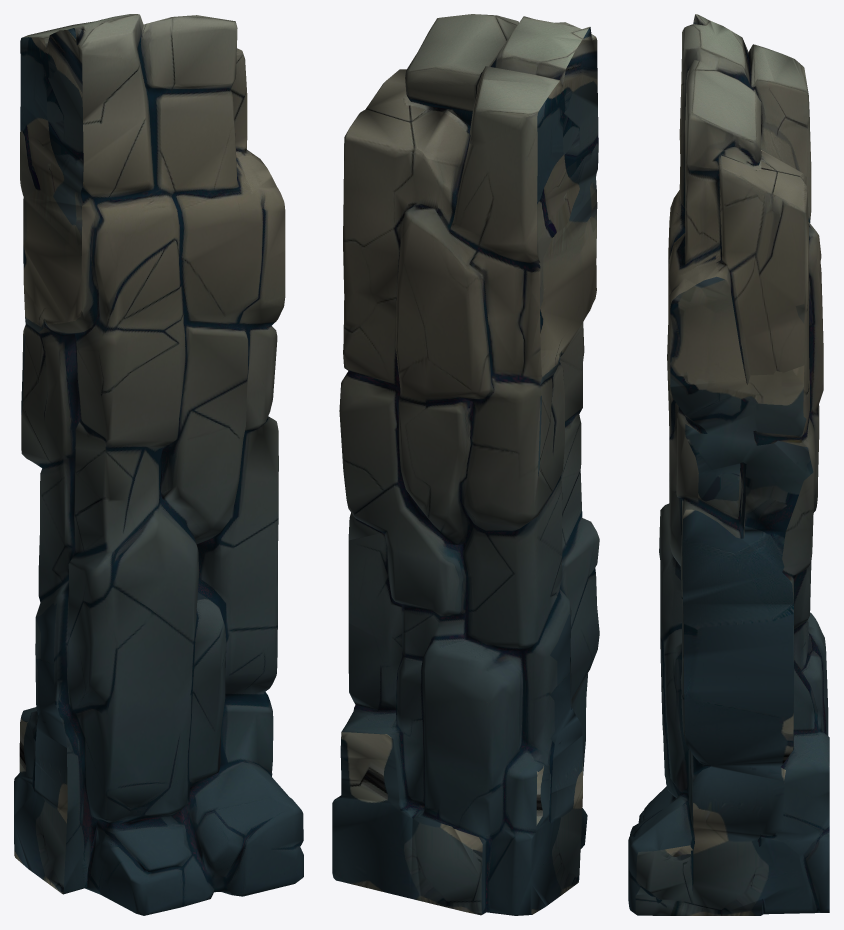
Rendered from cliff_tall_b.glb.
3 views of the same model, side by side, from view 1: azimuth 30°, elevation 25°; view 2: azimuth 150°, elevation 25°; view 3: azimuth 270°, elevation 25° (orthographic). The views are drawn at different scales.
Visible parts, largest first — view 1: CLIFF_TALL_B; view 2: CLIFF_TALL_B; view 3: CLIFF_TALL_B.
Part boxes in pixels (left/top/right/bottom): CLIFF_TALL_B: left=14, top=14, right=303, bottom=915; CLIFF_TALL_B: left=332, top=14, right=599, bottom=915; CLIFF_TALL_B: left=628, top=14, right=829, bottom=915.
Size of the model in its own units: 1.08 by 4.6 by 1.03.
1 material, 1 textured.
